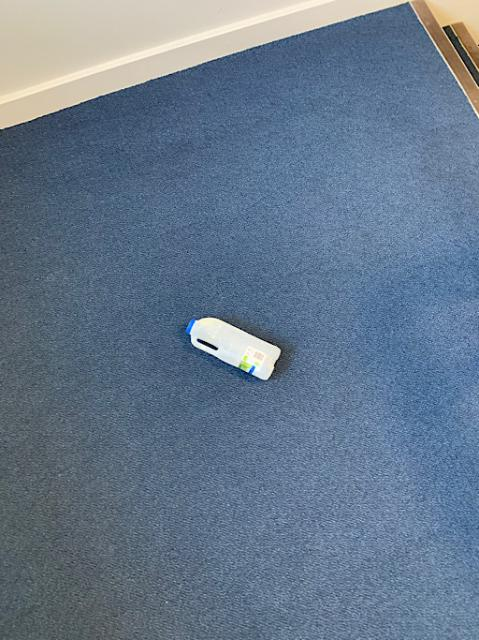plastic: (186, 317, 279, 378)
